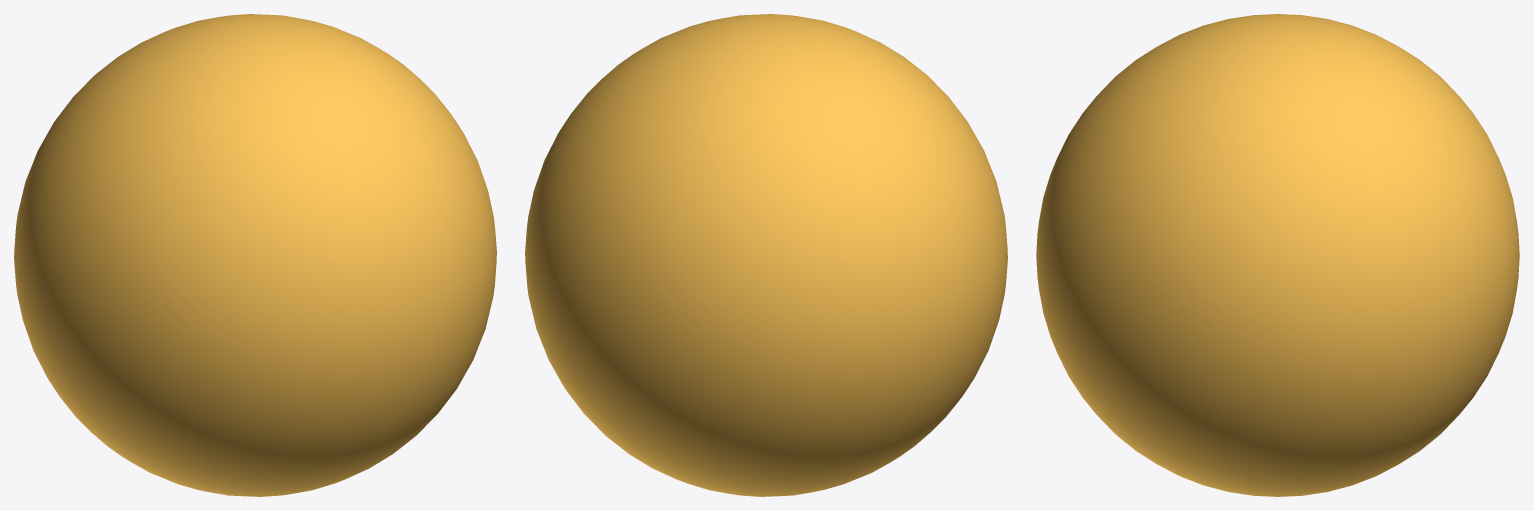
File: geosphere.FBX
The picture shows the model from 3 angles, left to right: view 1: azimuth 30°, elevation 25°; view 2: azimuth 150°, elevation 25°; view 3: azimuth 270°, elevation 25°; orthographic projection.
Visible parts, largest first — view 1: GeoSphere001; view 2: GeoSphere001; view 3: GeoSphere001.
Part boxes in pixels (left/top/right/bottom): GeoSphere001: left=14, top=14, right=496, bottom=496; GeoSphere001: left=525, top=14, right=1007, bottom=496; GeoSphere001: left=1036, top=14, right=1519, bottom=496.
Size of the model in its own units: 2 by 2 by 2.
